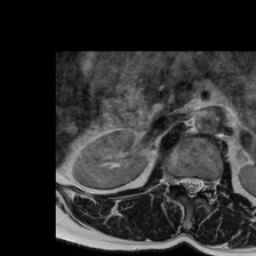CCS_normal: (189, 172, 196, 203)
LFS_normal: (204, 173, 212, 197)
LLS_normal: (196, 172, 204, 198)
RFS_normal: (172, 171, 180, 194)
RLS_normal: (180, 172, 189, 195)
